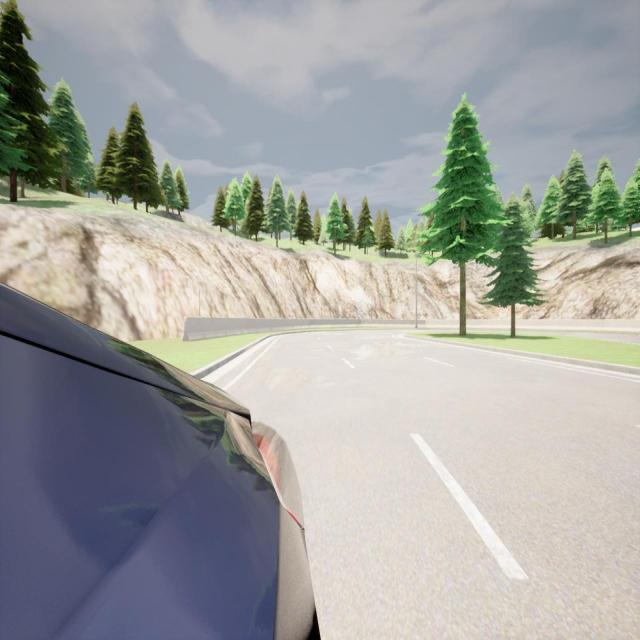Vehicle: (0, 283, 315, 638)
